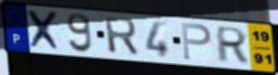4: (143, 19, 172, 60)
9: (66, 12, 94, 55)
P: (179, 21, 213, 62)
R: (103, 17, 141, 58), (216, 25, 249, 64)
X: (25, 8, 64, 52)
